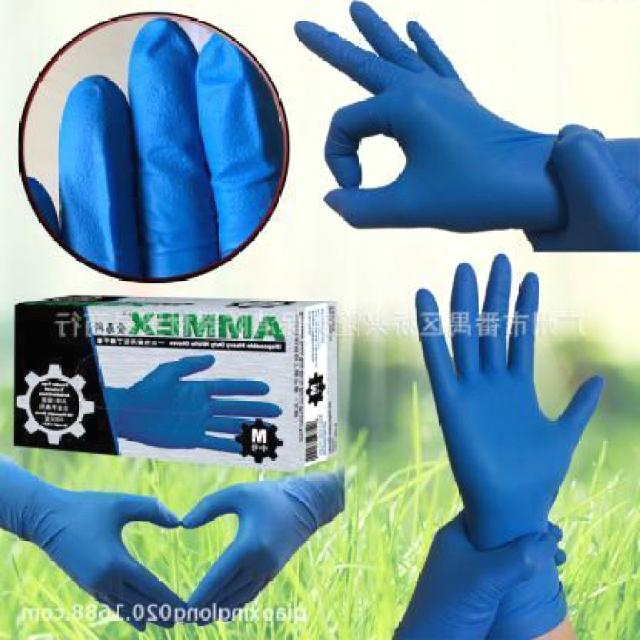hand_glove: (412, 246, 606, 546), (296, 0, 522, 240), (185, 473, 330, 629), (47, 472, 184, 631), (122, 351, 283, 458)
